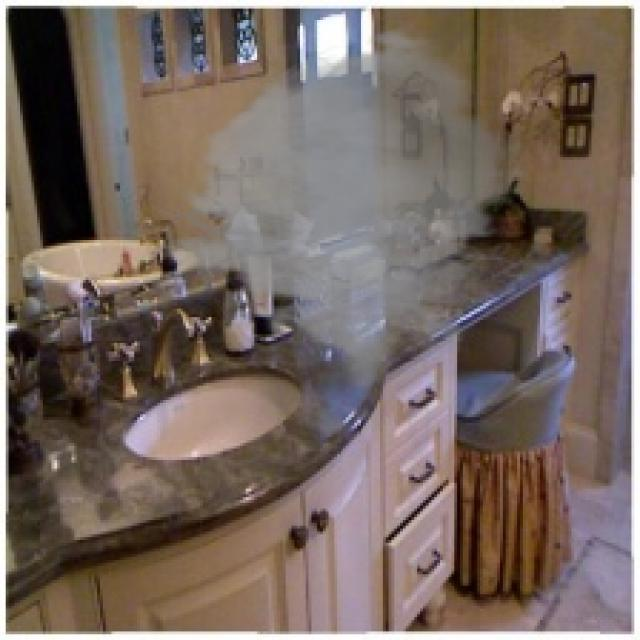smoke: (149, 26, 560, 391)
